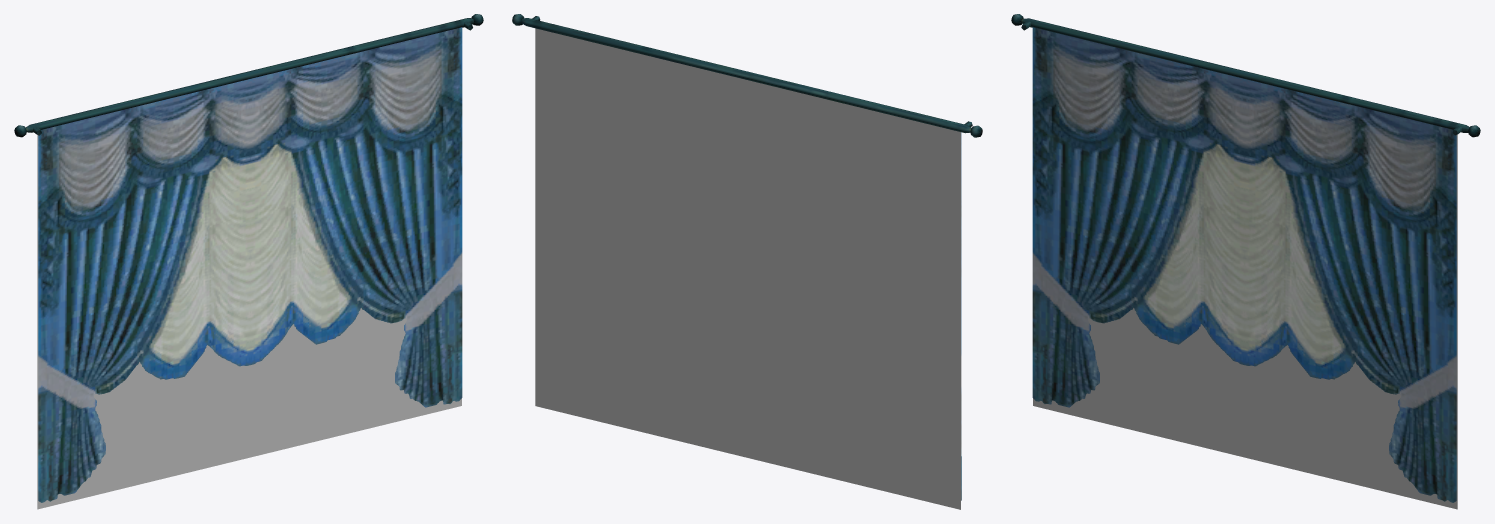
File: furni_0201232_01.FBX
3 views of the same model, side by side, from view 1: azimuth 30°, elevation 25°; view 2: azimuth 150°, elevation 25°; view 3: azimuth 330°, elevation 25° (orthographic).
Parts seen in each view (by area): view 1: furni_0201232_01; view 2: furni_0201232_01; view 3: furni_0201232_01.
Part boxes in pixels (left/top/right/bottom): furni_0201232_01: left=14, top=14, right=483, bottom=509; furni_0201232_01: left=512, top=14, right=982, bottom=509; furni_0201232_01: left=1011, top=14, right=1480, bottom=509.
Bounding box in the file's own units: 353 × 279 × 12.24.
